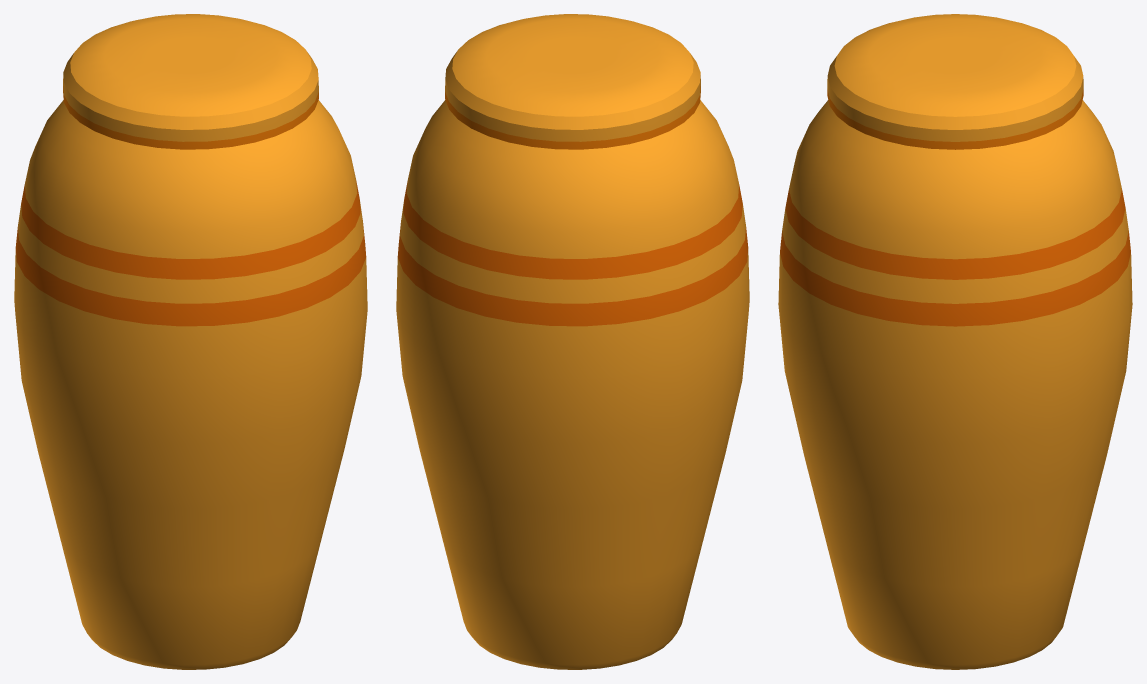
File: funeral_urn.fbx
The picture shows the model from 3 angles, left to right: view 1: azimuth 30°, elevation 25°; view 2: azimuth 150°, elevation 25°; view 3: azimuth 270°, elevation 25°; orthographic projection.
Parts seen in each view (by area): view 1: Circle.2611; view 2: Circle.2611; view 3: Circle.2611.
Part boxes in pixels (x1,y1,x2,y2): Circle.2611: (14, 14, 367, 669); Circle.2611: (396, 14, 749, 669); Circle.2611: (778, 14, 1132, 669).
Bounding box in the file's own units: 125 × 223 × 125.
Materials: 1 (1 with a texture image).
